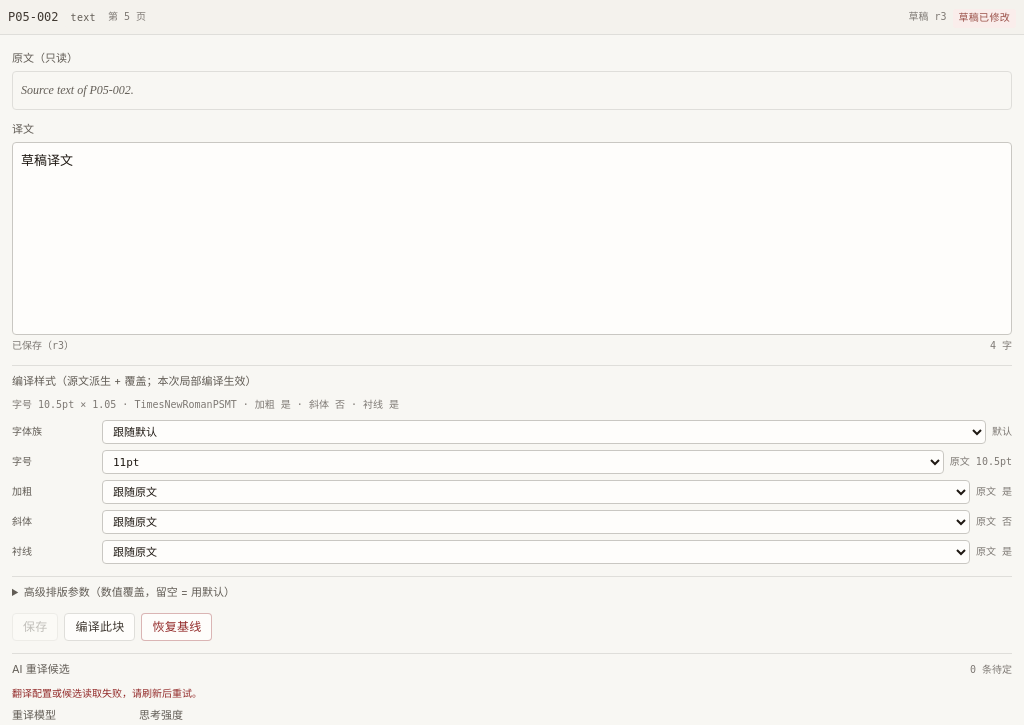
Test: ParagraphEditor 冲突与只读 › 409 revision_conflict → 提示刷新重试 + 刷新草稿按钮（不假装保存成功）
Replace the text in the text box labelled "译文" with "另一个会话的译文": (512, 238) [12,142,1012,335]
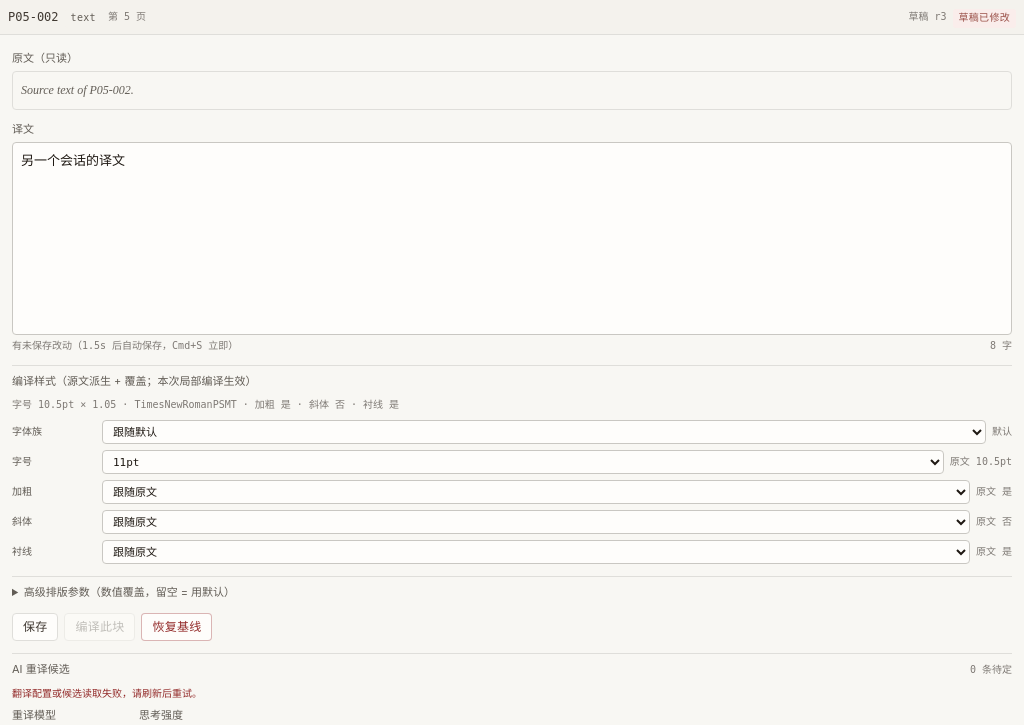
Leave the text box labelled "译文", box [12,142,1012,335]
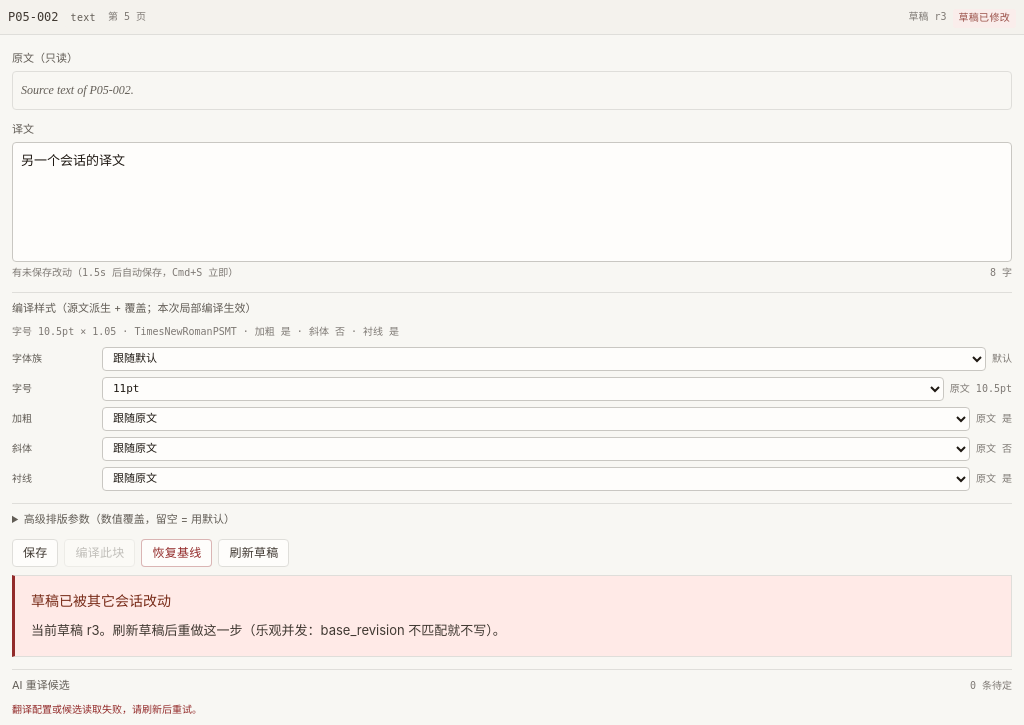
Expected: the text "草稿已被其它会话改动" is shown, [31,594,171,610]
Expected: the message "草稿已被其它会话改动 当前草稿 r3。刷新草稿后重做这一步（乐观并发：base_revision 不匹配就不写）。" is shown, [12,576,1012,657]
Expected: the button "刷新草稿" is shown, [218,540,289,568]
